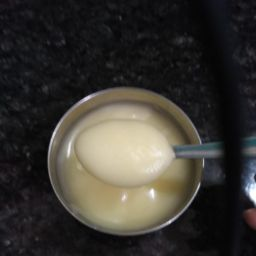Clarified Butter(ghee): (59, 105, 192, 225), (66, 116, 173, 188)
